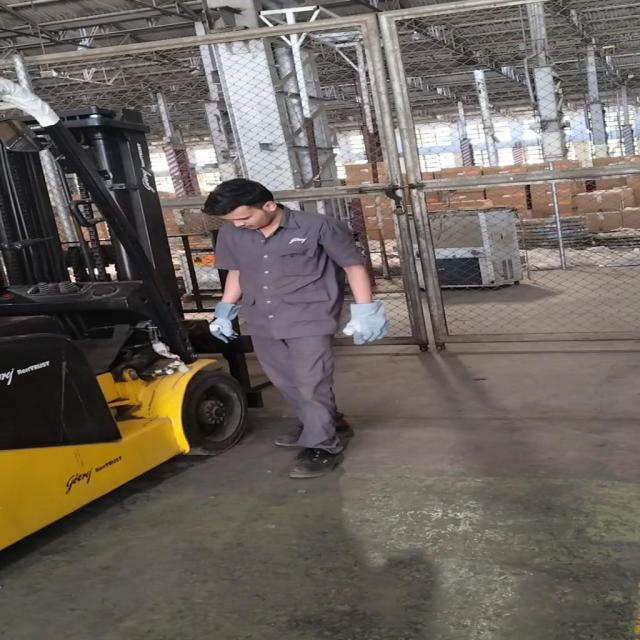Gloves-Detection: (338, 300, 390, 346), (210, 299, 241, 342)
